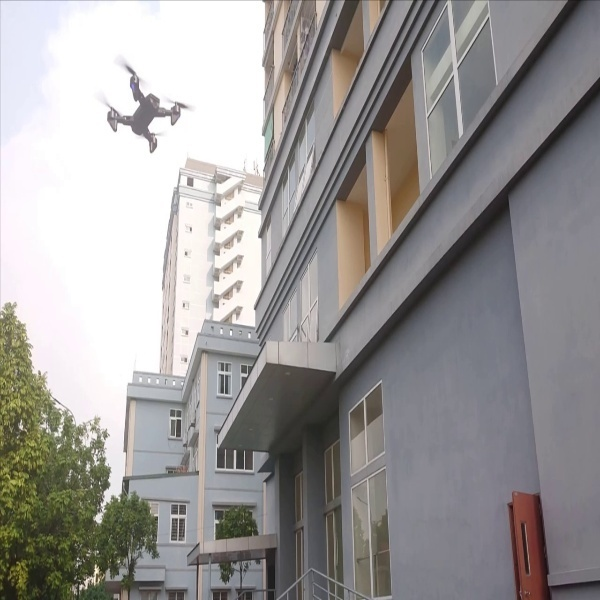drone: (88, 44, 196, 163)
